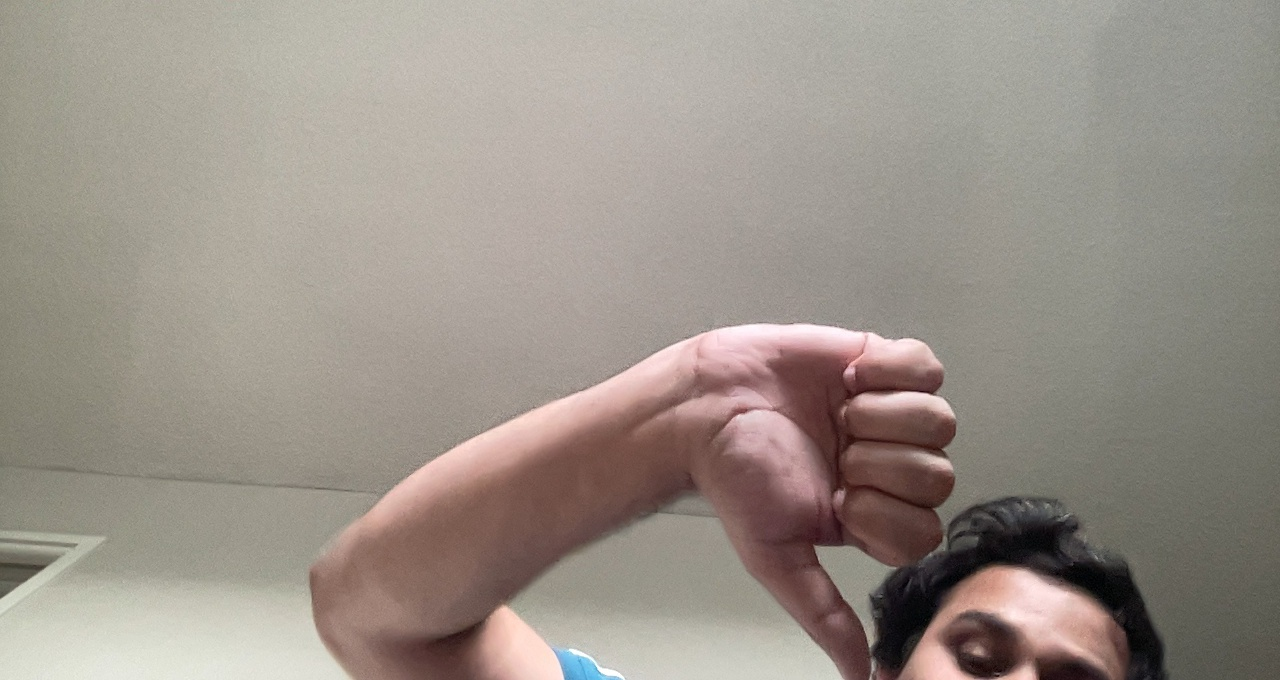thumbsdown: (709, 311, 961, 672)
